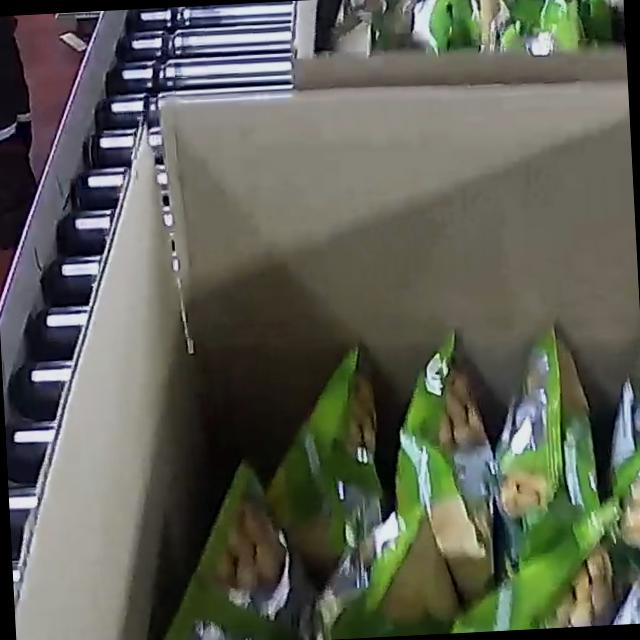yogurt: (111, 312, 640, 640), (323, 0, 623, 69)
